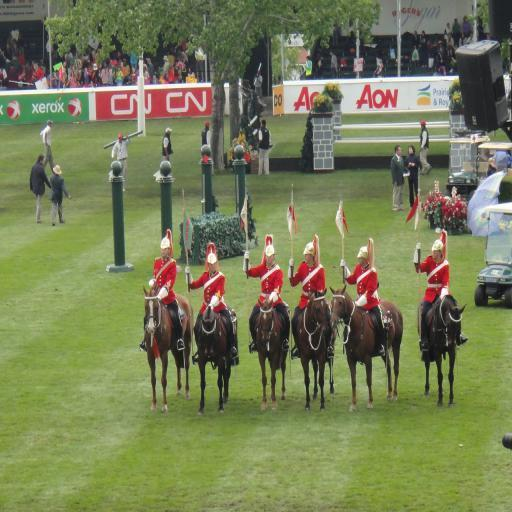horse: (328, 286, 402, 414), (141, 282, 193, 414), (418, 294, 466, 410), (294, 289, 337, 411), (192, 305, 236, 417), (249, 296, 286, 412)
